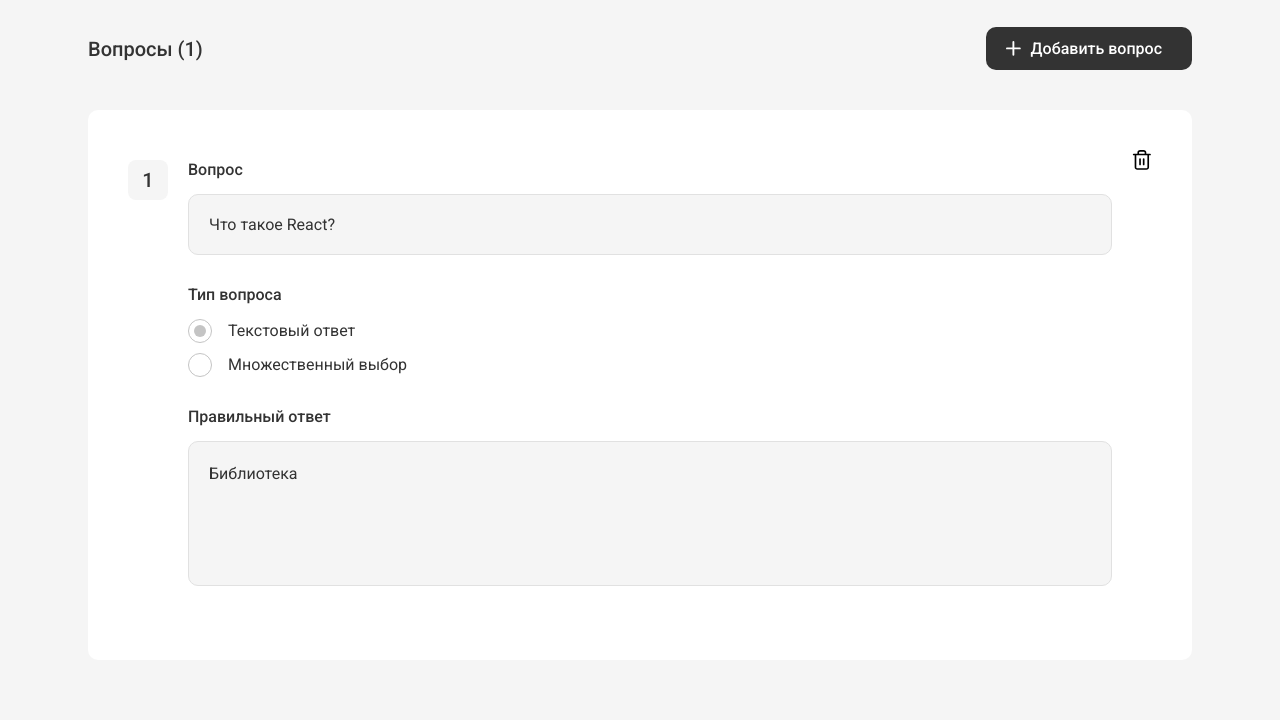
Test: EditTestPage › editing questions › switches question to multiple choice with two default options
(page scrolled)
Click the radio button labelled "Множественный выбор". click: [298, 365]
box: [188, 353, 407, 377]
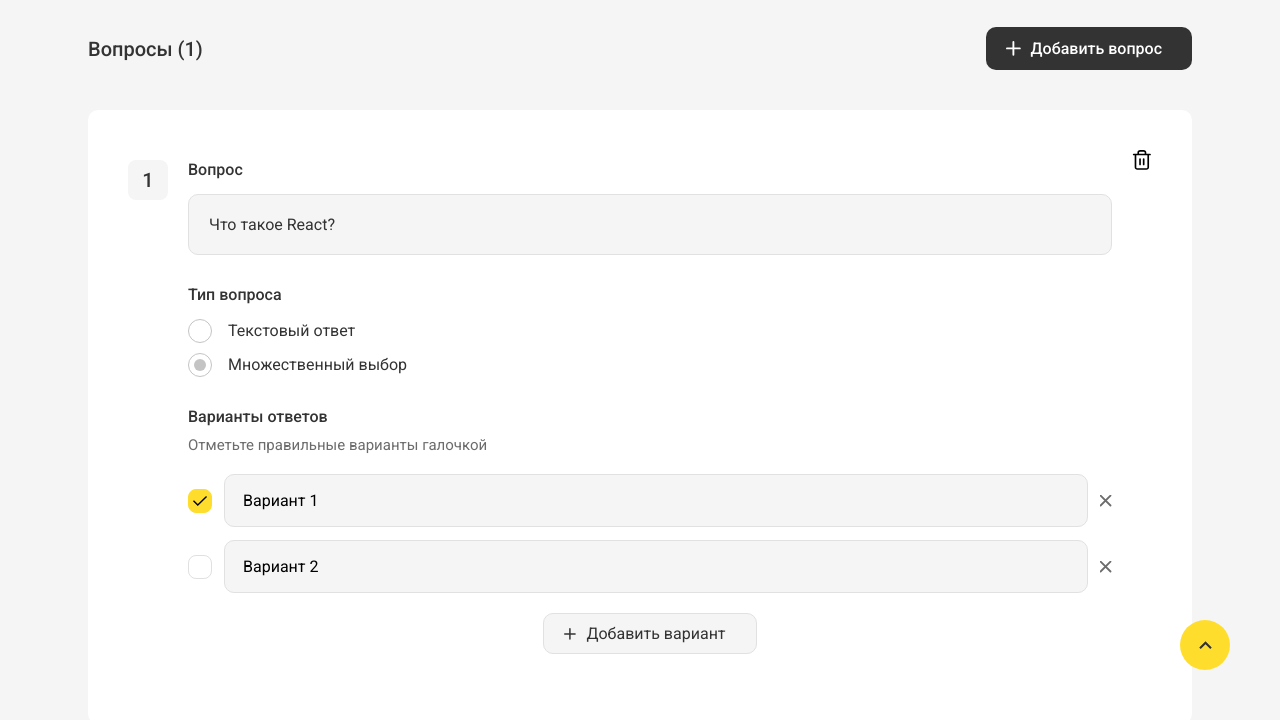
Expected: the 2nd field showing "Вариант 1" is shown, [224, 474, 1088, 527]
Expected: the 3rd field showing "Вариант 2" is shown, [224, 540, 1088, 593]
